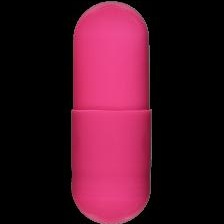68151-2857: (0, 0, 224, 224)
